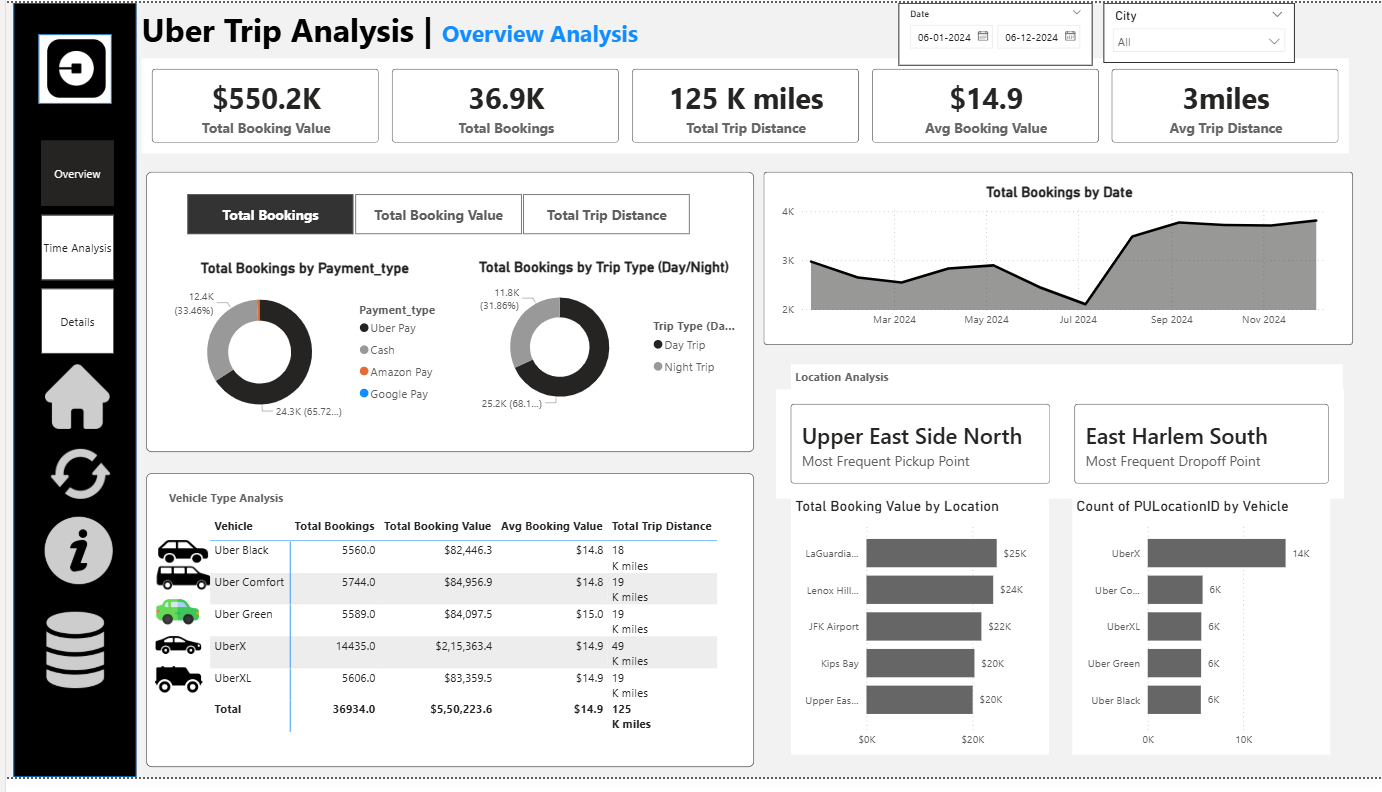

Layout of this report page (visuals, bound fields, positions):
{"tool":"powerbi","page":{"name":"Overview","canvas":[1600,900],"ordinal":0},"visuals":[{"type":"shape","box":[8.6,0,142.9,900],"z":1000},{"type":"textbox","box":[152.2,0,773.9,69.6],"z":2000},{"type":"cardVisual","fields":{"Data":["Trips.Total Booking Value","Trips.Total Bookings","Trips.Total Trip Distance","Trips.Avg Booking Amount","Trips.Avg Trip Distance"]},"box":[152.2,59.4,1414.5,120.3],"z":3000},{"type":"shape","box":[162.3,195.7,707.2,326.1],"z":4000},{"type":"slicer","fields":{"Values":["Dynamic Measure.Dynamic Measure"]},"box":[184.1,214.5,634.8,60.9],"z":5000},{"type":"donutChart","fields":{"Y":["Trips.Total Bookings"],"Category":["Trips.Payment_type"]},"box":[173.9,298.6,346.4,197.1],"z":6000},{"type":"donutChart","fields":{"Y":["Trips.Total Bookings"],"Category":["Trips.Trip Type (Day/Night)"]},"box":[530.4,297.1,329,188.4],"z":7000},{"type":"shape","box":[881.2,195.7,685.5,201.4],"z":8000},{"type":"areaChart","fields":{"Y":["Trips.Total Bookings"],"Category":["Calendar Table.Date"]},"box":[895.7,208.7,659.4,176.8],"z":9000},{"type":"shape","box":[162.3,546.4,707.2,342],"z":10000},{"type":"textbox","box":[184.1,560.9,684.1,30.4],"z":11000},{"type":"pivotTable","fields":{"Rows":["Trips.Vehicle"],"Values":["Trips.Total Bookings","Trips.Total Booking Value","Trips.Avg Booking Value","Trips.Total Trip Distance"]},"box":[231.9,591.3,627.5,282.6],"z":12000},{"type":"cardVisual","fields":{"Data":["Trips.Most Frequent Pickup Point"]},"box":[895.7,449.3,336.2,127.5],"z":13000},{"type":"cardVisual","fields":{"Data":["Trips.Most Frequent Dropoff Point"]},"box":[1224.6,449.3,330.4,127.5],"z":14000},{"type":"clusteredBarChart","fields":{"Y":["Trips.Total Booking Value"],"Category":["Locations.Location"]},"box":[913,573.9,300,300],"z":15000},{"type":"clusteredBarChart","fields":{"Category":["Trips.Vehicle"],"Y":["CountNonNull(Trips.PULocationID)"]},"box":[1239.1,573.9,300,300],"z":16000},{"type":"textbox","box":[913,419.6,641.3,30.4],"z":17000},{"type":"slicer","fields":{"Values":["Calendar Table.Date"]},"box":[1037.3,0,225.4,72.9],"z":18000},{"type":"slicer","fields":{"Values":["Locations.City"]},"box":[1276.3,0,222,69.5],"z":19000},{"type":"shape","box":[38.3,36.2,85.1,80.9],"z":20000},{"type":"image","box":[40.4,42.6,83,68.1],"z":21000},{"type":"pageNavigator","box":[40.4,159.6,85.1,248.9],"z":22000},{"type":"image","box":[173.8,607.7,63.1,60],"z":23000},{"type":"image","box":[163.1,758.5,75.4,55.4],"z":24000},{"type":"image","box":[158.5,716.9,84.6,60],"z":25000},{"type":"image","box":[163.1,683.1,73.8,49.2],"z":26000},{"type":"image","box":[146.2,633.8,118.5,69.2],"z":27000},{"type":"image","box":[26.2,420,113.8,75.4],"z":28000},{"type":"image","box":[21.4,512.9,130,68.6],"z":29000},{"type":"image","box":[13.8,596.9,140,78.5],"z":30000},{"type":"image","box":[25.7,707.1,108.6,88.6],"z":31000}]}

Visuals, with their boxes in screenshot pixels (x1, y1, x2, y2), scaled from the page's 1600x900 canvas onto the 1382x792 screenshot:
shape: 7:0:131:791
textbox: 131:0:800:61
cardVisual - Trips.Total Booking Value x Trips.Total Bookings: 131:52:1353:158
shape: 140:172:751:459
slicer - Dynamic Measure.Dynamic Measure: 159:189:707:242
donutChart - Trips.Total Bookings x Trips.Payment_type: 150:263:449:436
donutChart - Trips.Total Bookings x Trips.Trip Type (Day/Night): 458:261:742:427
shape: 761:172:1353:349
areaChart - Trips.Total Bookings x Calendar Table.Date: 774:184:1343:339
shape: 140:481:751:782
textbox: 159:494:750:520
pivotTable - Trips.Vehicle x Trips.Total Bookings: 200:520:742:769
cardVisual - Trips.Most Frequent Pickup Point: 774:395:1064:508
cardVisual - Trips.Most Frequent Dropoff Point: 1058:395:1343:508
clusteredBarChart - Trips.Total Booking Value x Locations.Location: 789:505:1048:769
clusteredBarChart - Trips.Vehicle x CountNonNull(Trips.PULocationID): 1070:505:1329:769
textbox: 789:369:1343:396
slicer - Calendar Table.Date: 896:0:1091:64
slicer - Locations.City: 1102:0:1294:61
shape: 33:32:107:103
image: 35:37:107:97
pageNavigator: 35:140:108:359
image: 150:535:205:588
image: 141:667:206:716
image: 137:631:210:684
image: 141:601:205:644
image: 126:558:229:619
image: 23:370:121:436
image: 18:451:131:512
image: 12:525:133:594
image: 22:622:116:700
